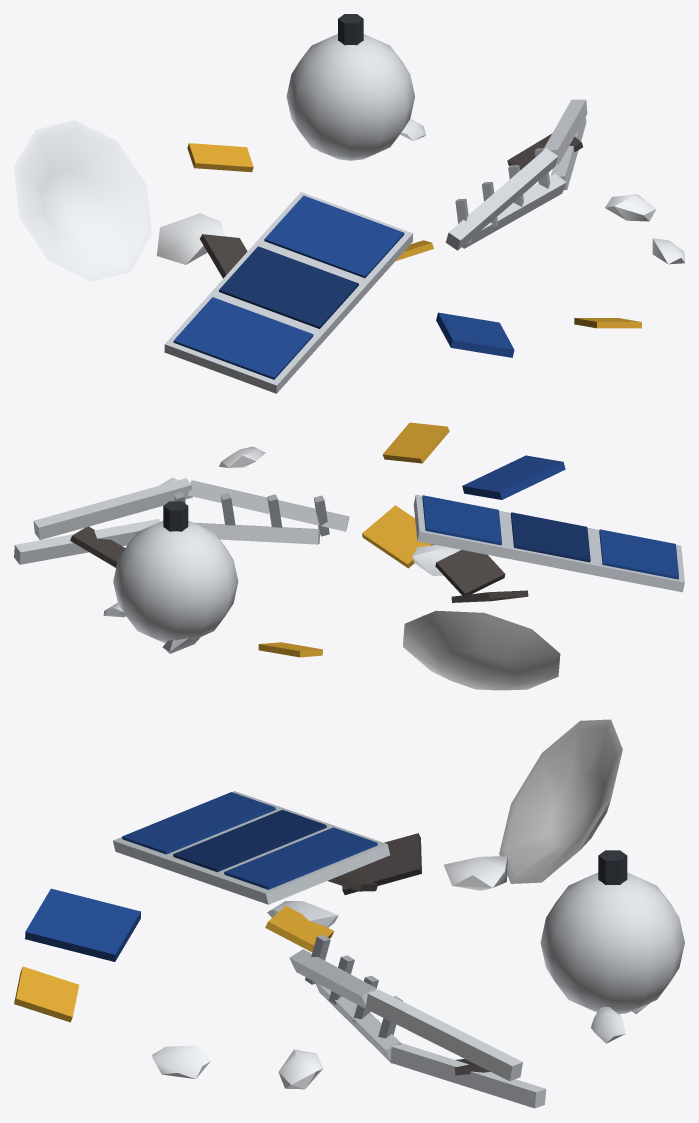
The model's file is space_junk.glb.
The picture shows the model from 3 angles, top to bottom: view 1: azimuth 30°, elevation 25°; view 2: azimuth 150°, elevation 25°; view 3: azimuth 270°, elevation 25°; orthographic projection. The views are drawn at different scales.
Parts seen in each view (by area): view 1: body; view 2: body; view 3: body.
Part boxes in pixels (x1,y1,x2,y2): body: (14,14,684,393); body: (14,422,684,690); body: (14,719,684,1108).
Bounding box in the file's own units: 60.78 × 15.96 × 55.74.
